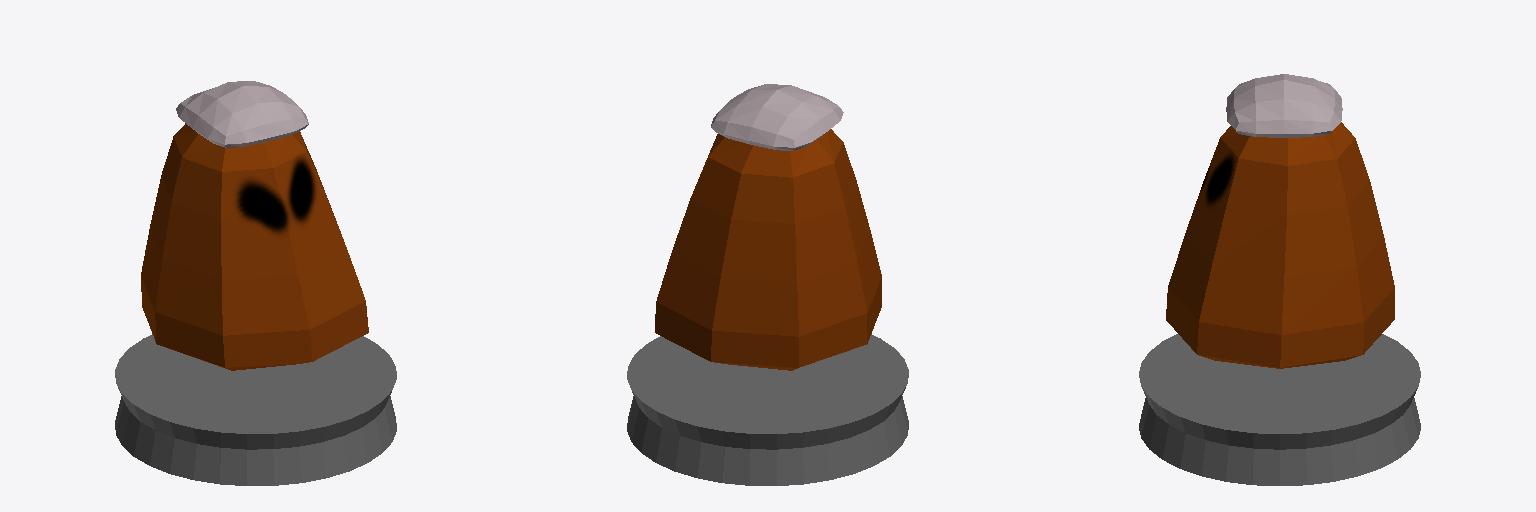
The picture shows the model from 3 angles: view 1: azimuth 30°, elevation 25°; view 2: azimuth 150°, elevation 25°; view 3: azimuth 270°, elevation 25°; orthographic projection.
Visible parts, largest first — view 1: 立方体, Cylinder, 立方体.001; view 2: 立方体, Cylinder, 立方体.001; view 3: 立方体, Cylinder, 立方体.001.
Boxes of the visible parts, x1=… form: 立方体: x1=141, y1=123, x2=368, y2=370; Cylinder: x1=115, y1=334, x2=396, y2=485; 立方体.001: x1=176, y1=81, x2=308, y2=147; 立方体: x1=655, y1=129, x2=881, y2=370; Cylinder: x1=627, y1=334, x2=908, y2=485; 立方体.001: x1=711, y1=84, x2=843, y2=150; 立方体: x1=1166, y1=122, x2=1394, y2=368; Cylinder: x1=1139, y1=334, x2=1420, y2=485; 立方体.001: x1=1226, y1=74, x2=1342, y2=137.
Size of the model in its own units: 1.28 by 1.71 by 1.28.
3 materials, 3 textured.